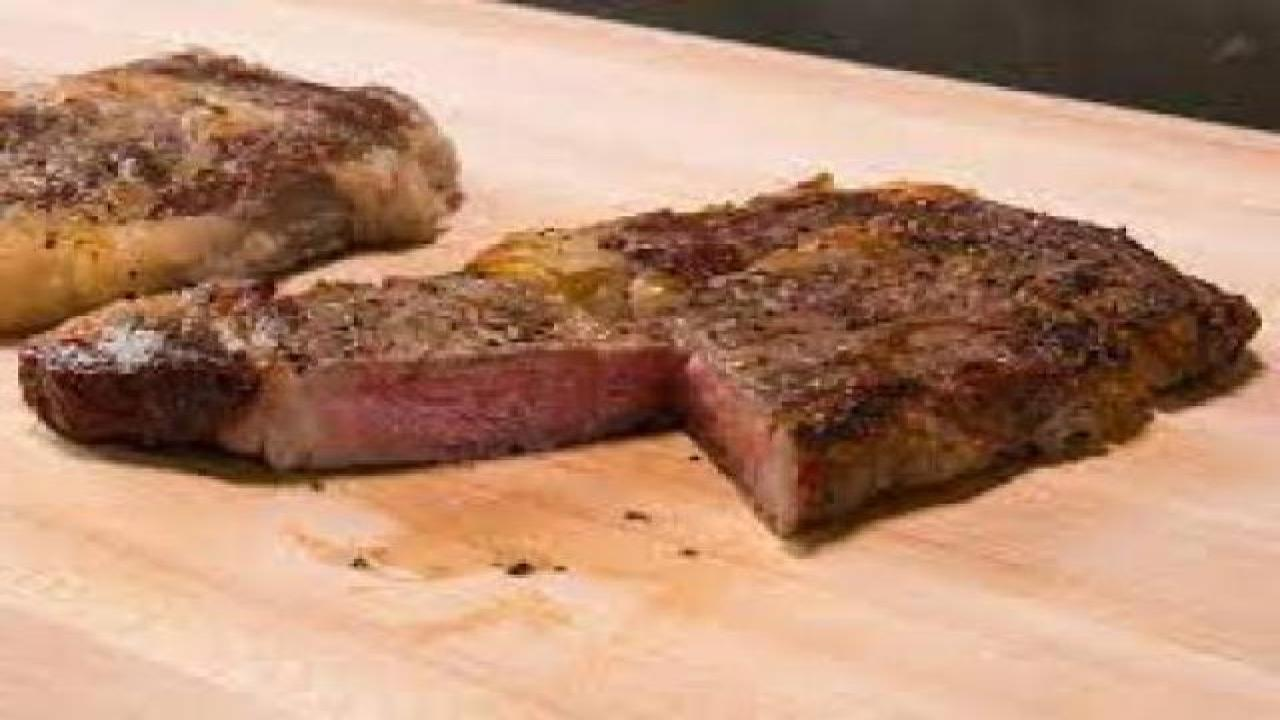Carne: (79, 164, 1272, 558)
